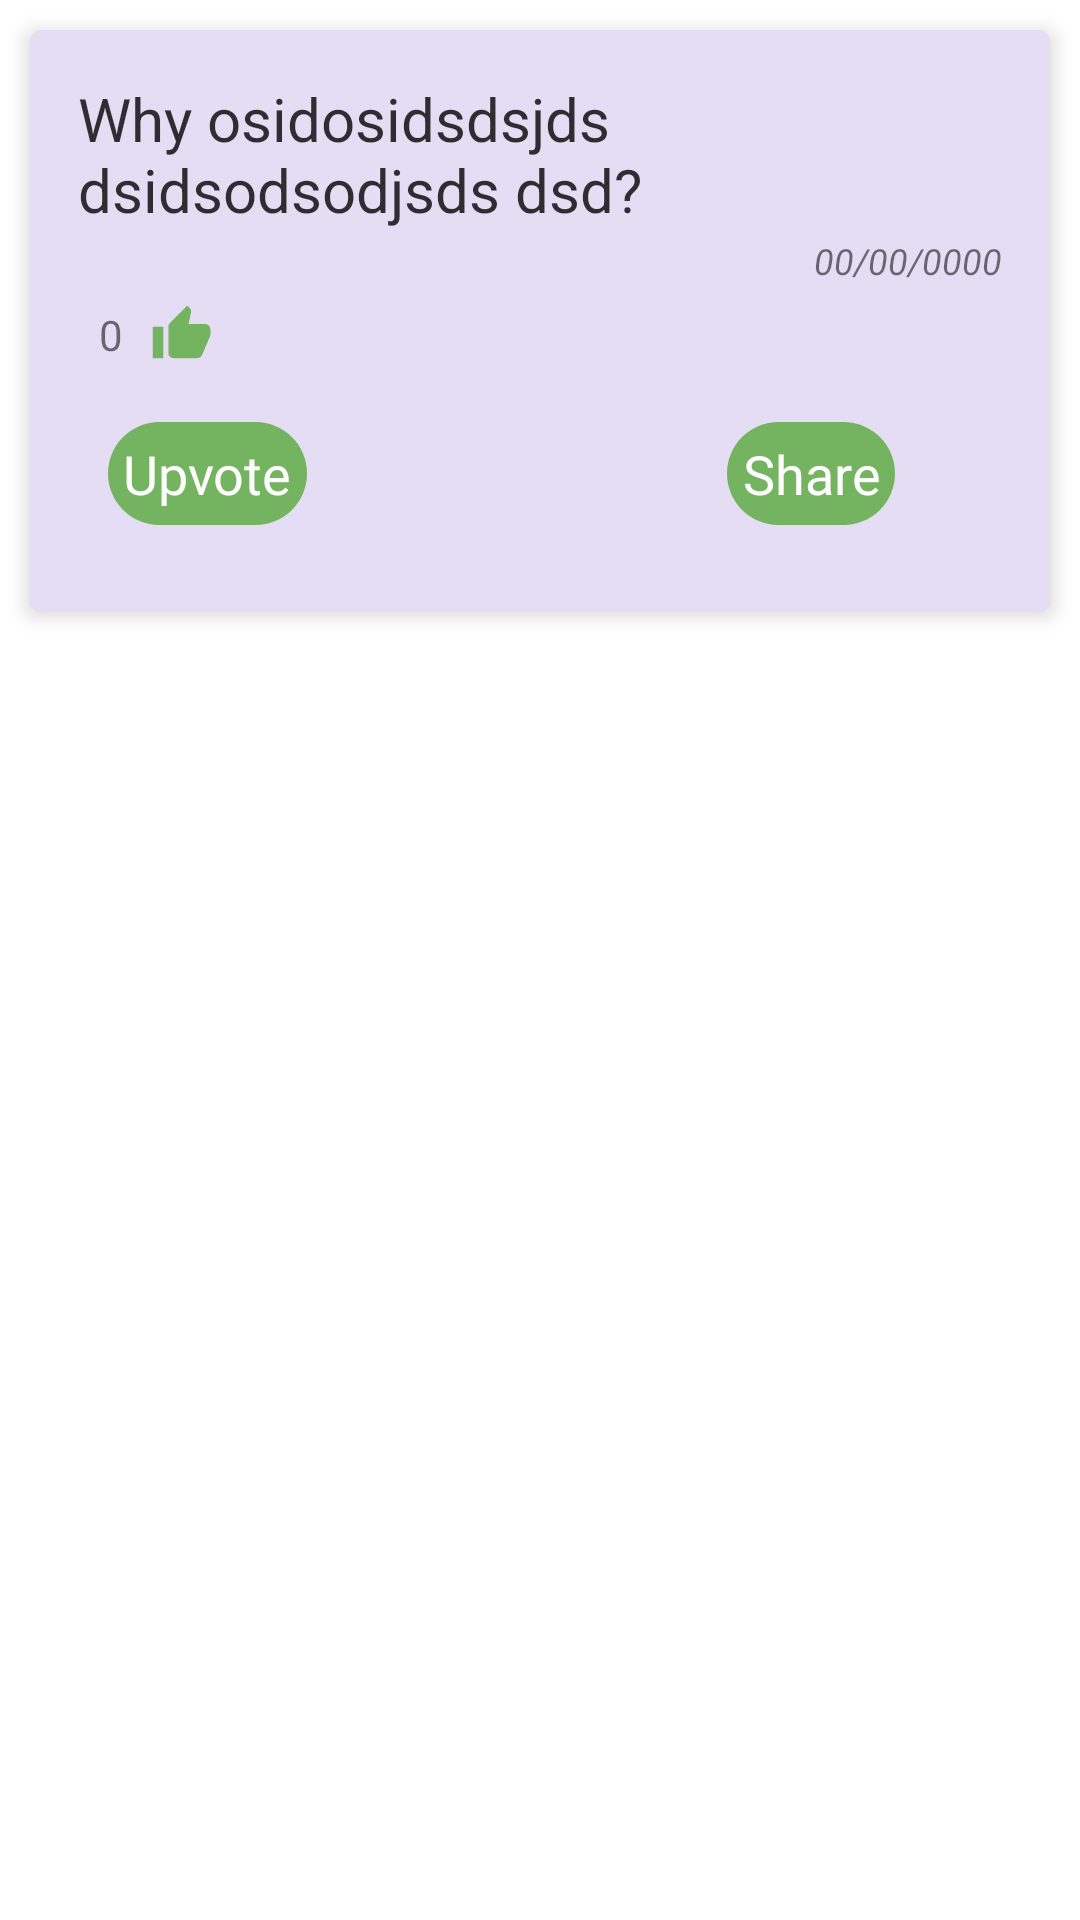

Icons on this 1080px×1920px Android screen, each with its box as region(x1, y1, x2, y2):
thumb up: region(152, 306, 211, 359)
